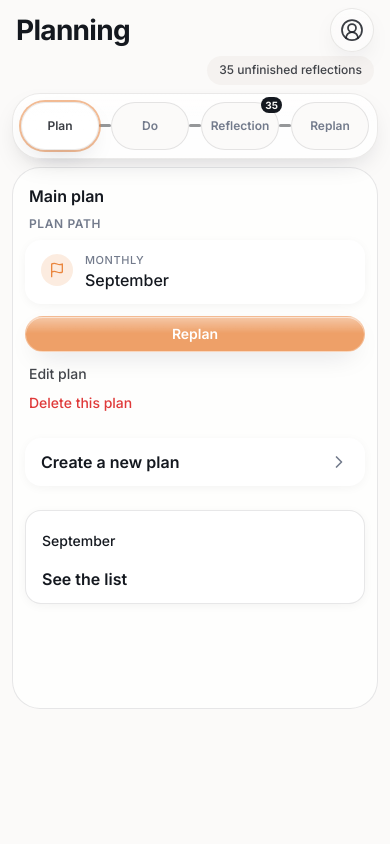
Scenario: Plan home › asks before deleting and leaves the plan in place when cancelled
Click the button with test id "plan-delete".
click(81, 402)  # box left=25, top=393, right=365, bottom=413
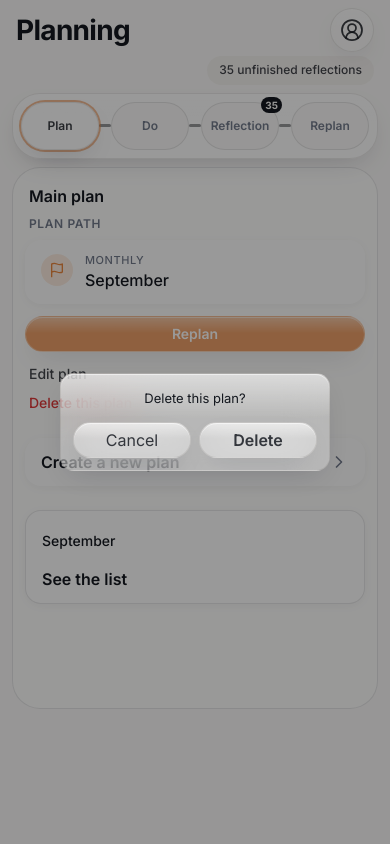
Expected: the element with test id "plan-delete-confirm" shows "Delete this plan?", left=144, top=390, right=246, bottom=406
Click the button "Cancel".
click(132, 440)  # box left=73, top=422, right=191, bottom=458
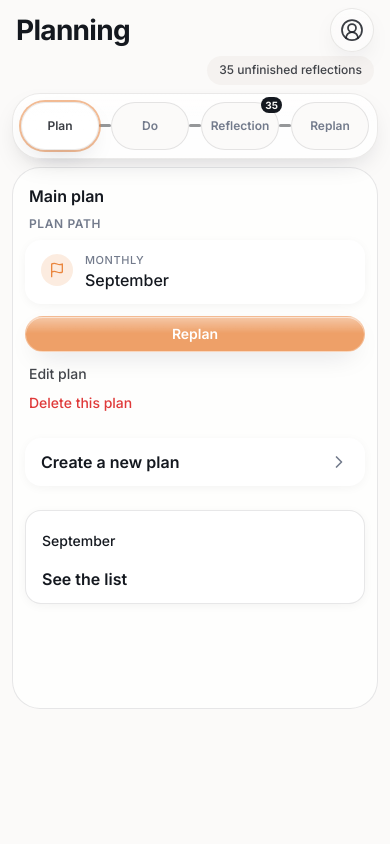
Expected: the element with test id "plan-delete-confirm" is gone
Click the button with test id "plan-delete".
click(81, 402)  # box left=25, top=393, right=365, bottom=413
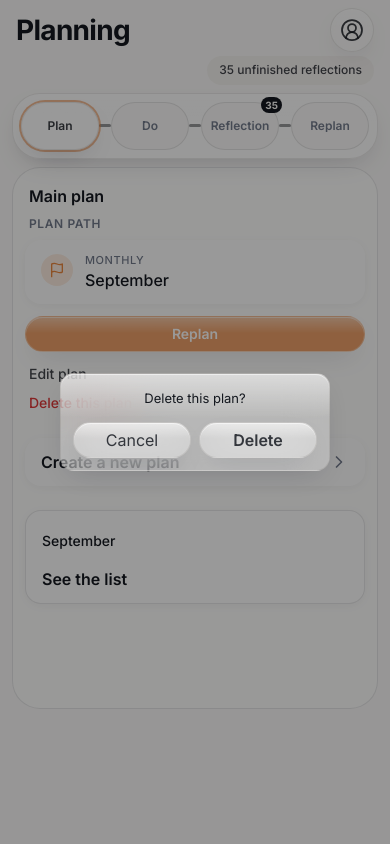
Click the button with test id "plan-delete-confirm-confirm".
click(258, 440)  # box left=199, top=422, right=317, bottom=458
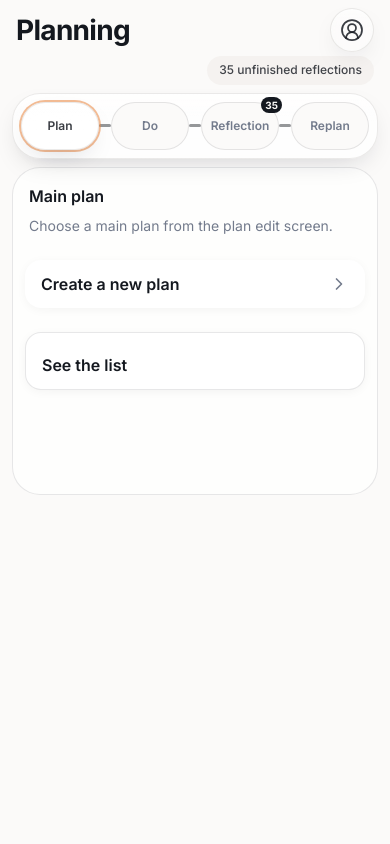
Expected: the text "Choose a main plan from the plan edit screen." is shown, left=25, top=216, right=365, bottom=236
